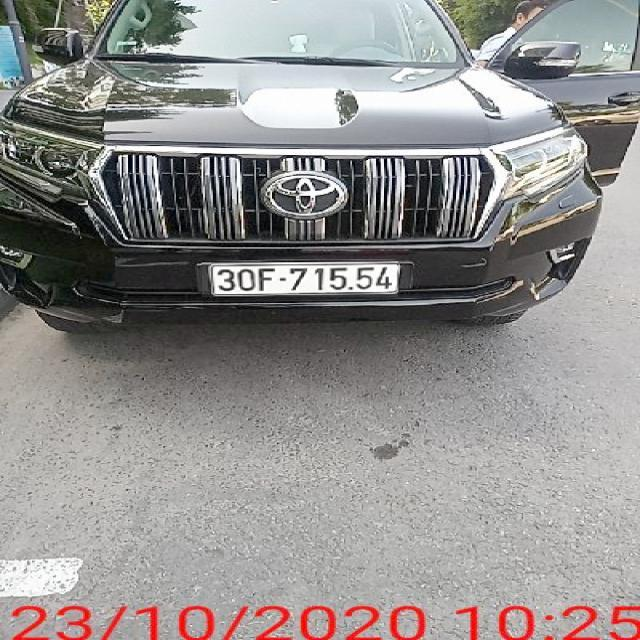car: (0, 3, 639, 340)
plate: (203, 252, 412, 306)
